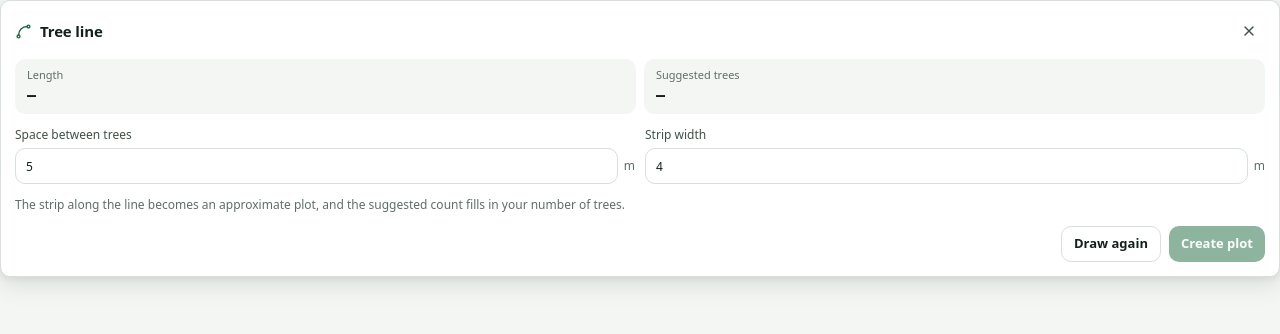
Test: Tree line panel › rejects spacing outside 0.5–50 m
Replace the text in the number field labelled "Space between trees" with "0" at (316, 166), box [15,148,618,184]
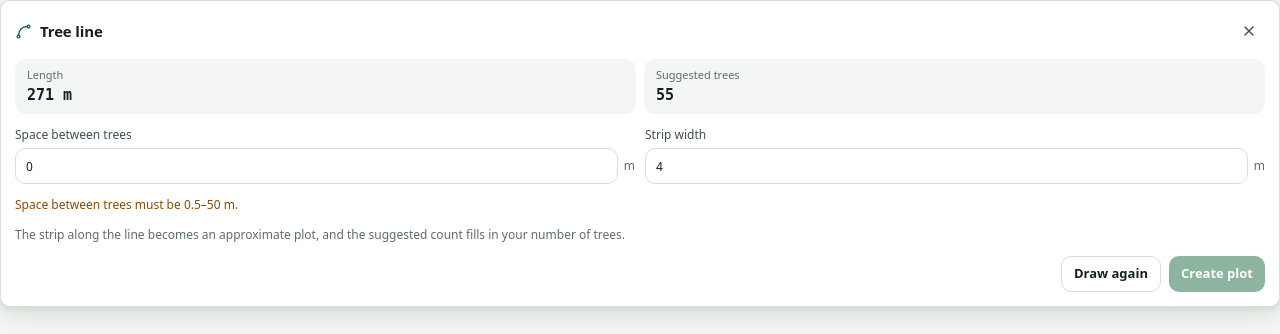
Check: the message reads "Space between trees must be 0.5–50 m.", box [15,196,238,213]
